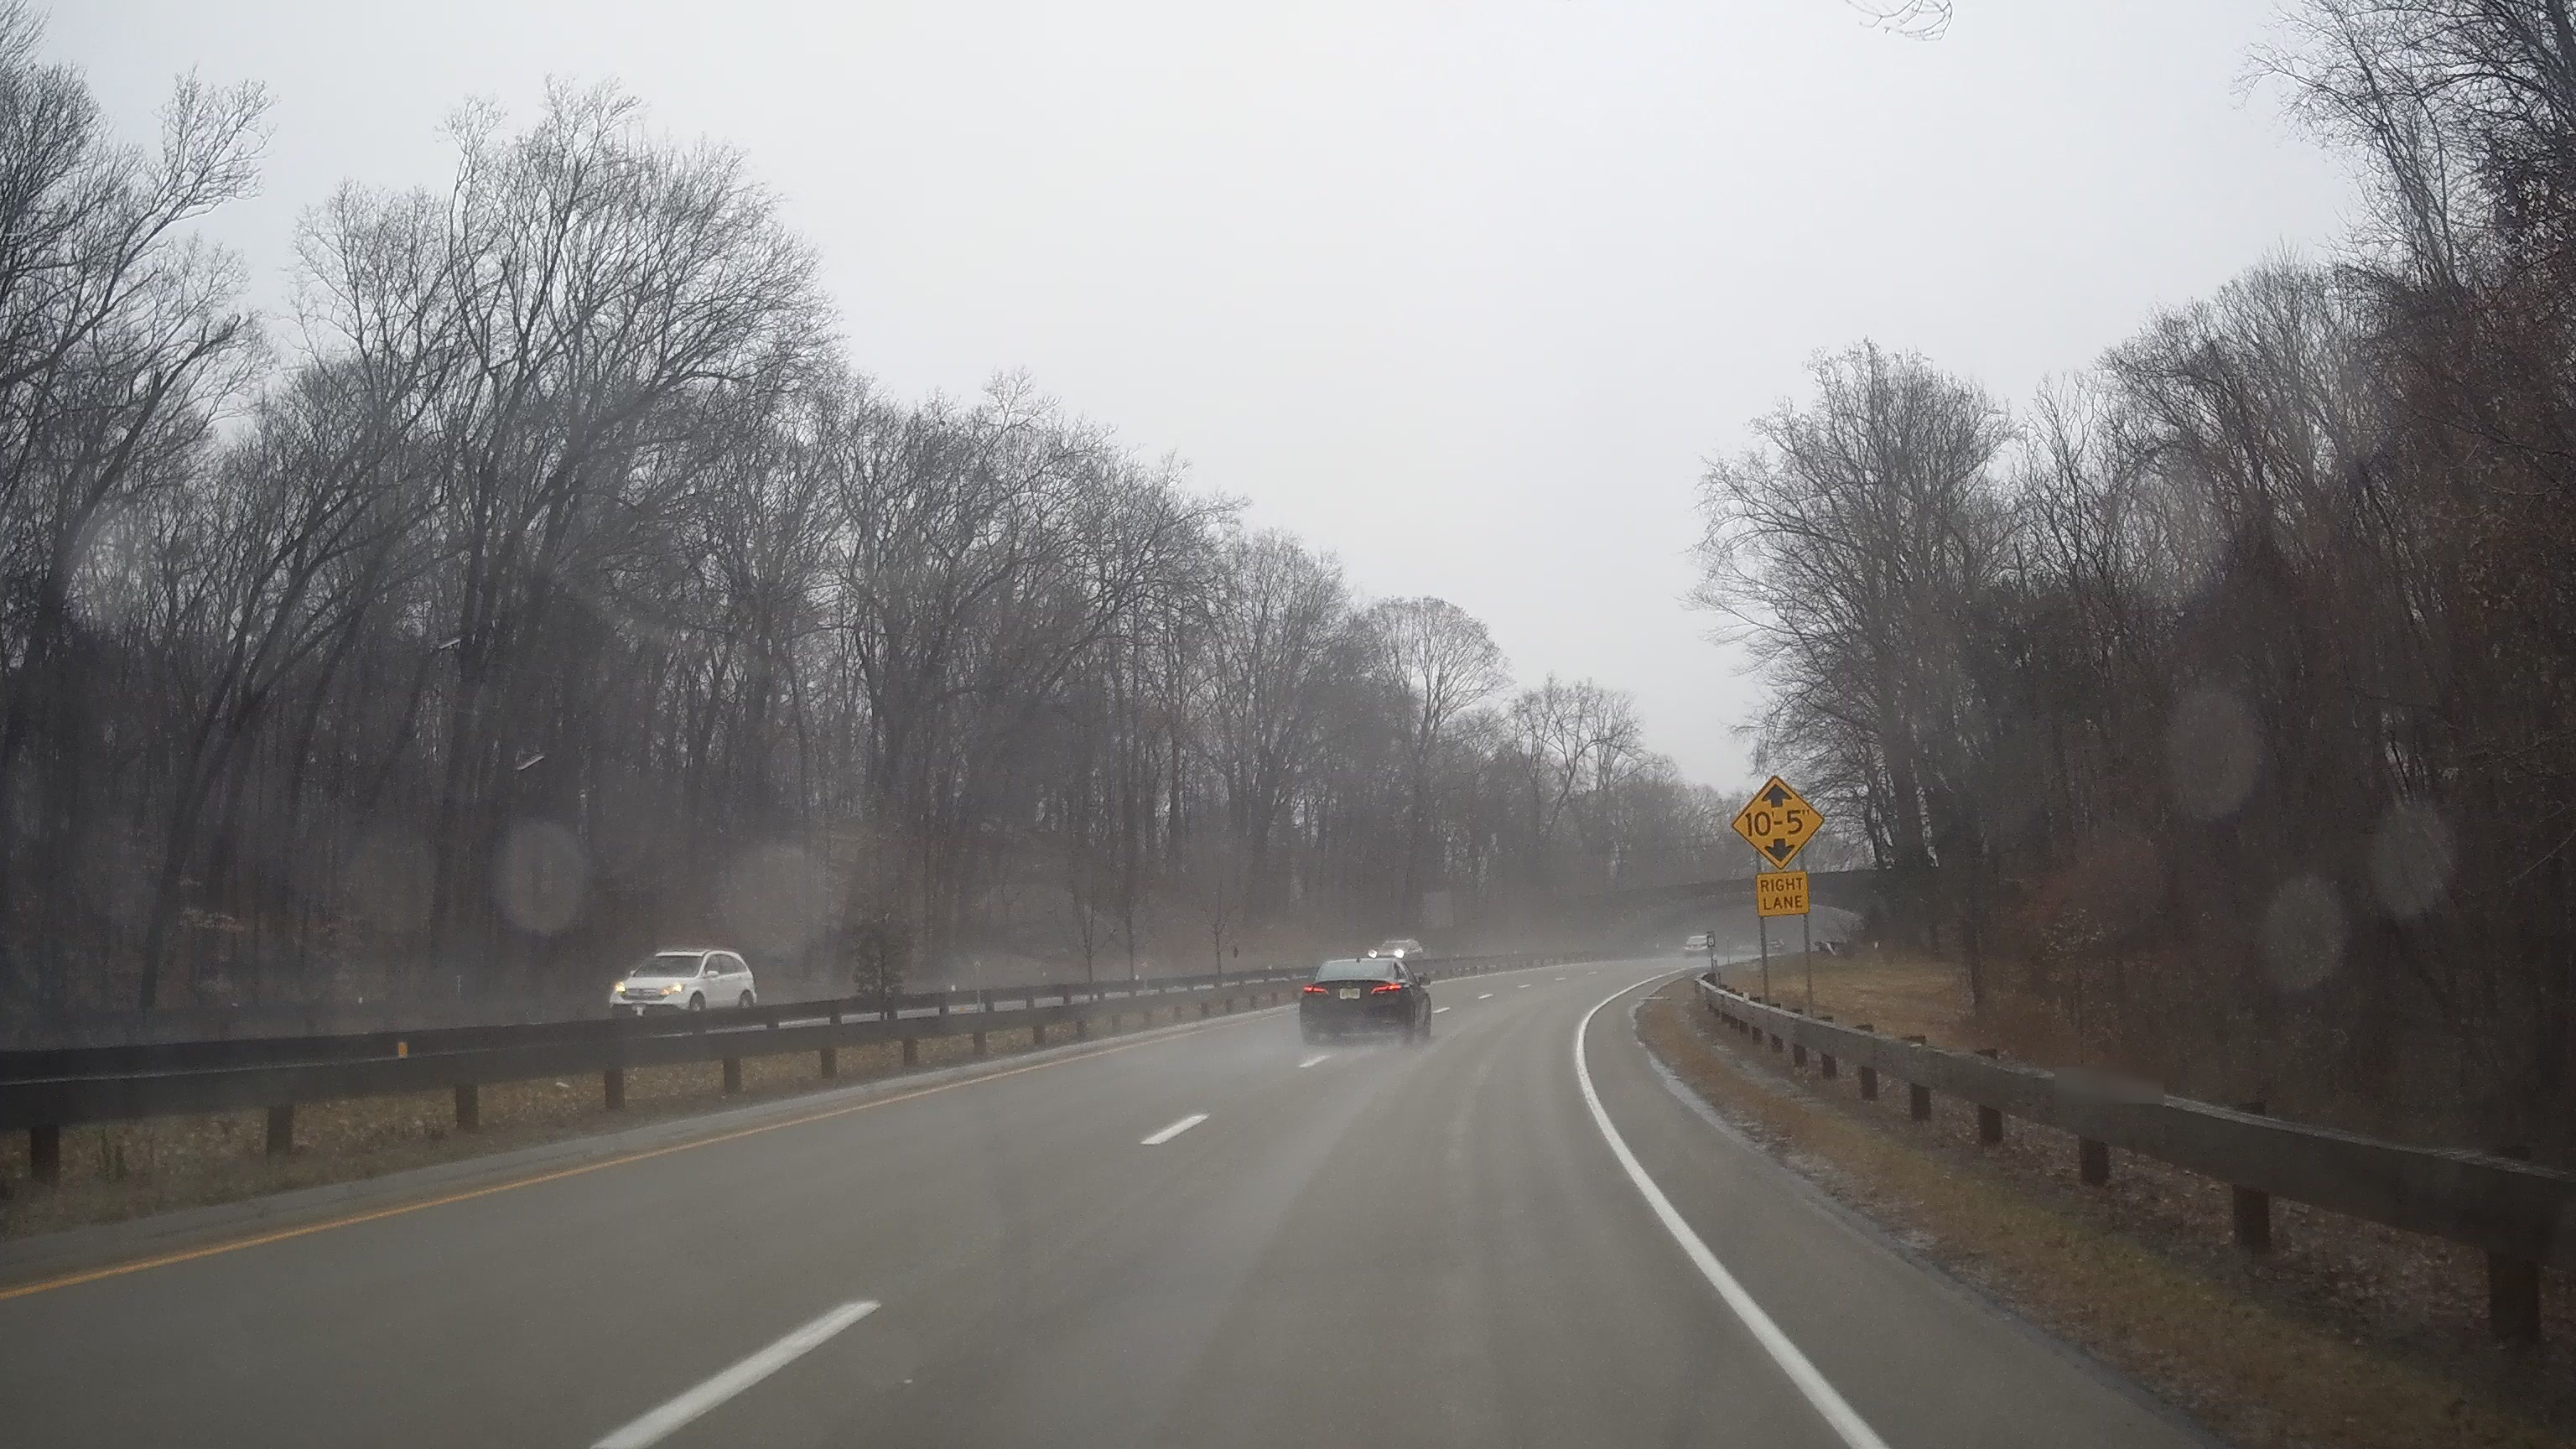low-clearance-sign: (1730, 775, 1824, 870)
